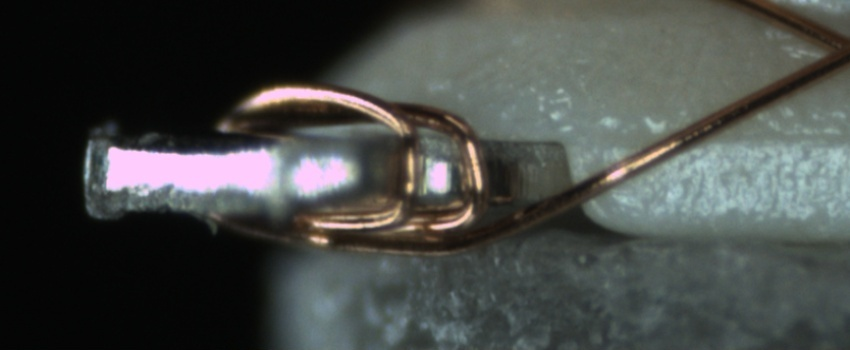CL: (801, 15, 850, 80)
DL: (608, 104, 843, 171)
TE: (244, 65, 480, 248)
